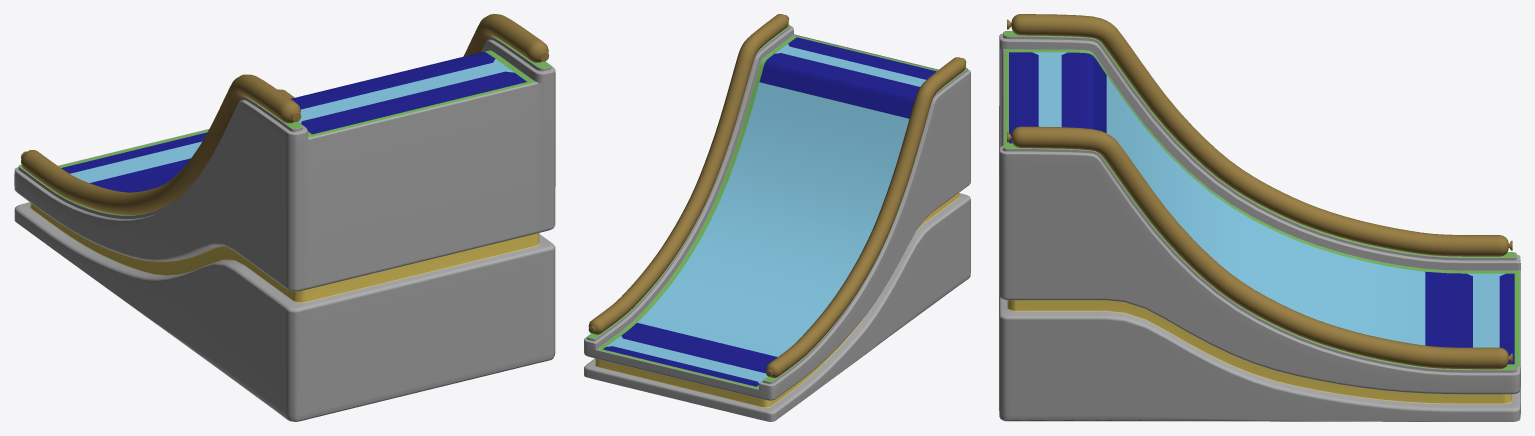
File: SM_Quarterpipe_01 1.fbx
3 views of the same model, side by side, from view 1: azimuth 30°, elevation 25°; view 2: azimuth 150°, elevation 25°; view 3: azimuth 270°, elevation 25° (orthographic). The views are drawn at different scales.
Parts seen in each view (by area): view 1: SM_Quarterpipe_01, SM_Quarterpipe_Sausage_01; view 2: SM_Quarterpipe_01, SM_Quarterpipe_Sausage_01; view 3: SM_Quarterpipe_01, SM_Quarterpipe_Sausage_01.
Part boxes in pixels (bbox=[...]): SM_Quarterpipe_01: bbox=[14, 36, 555, 421]; SM_Quarterpipe_Sausage_01: bbox=[21, 14, 549, 214]; SM_Quarterpipe_01: bbox=[584, 24, 970, 421]; SM_Quarterpipe_Sausage_01: bbox=[588, 14, 966, 377]; SM_Quarterpipe_01: bbox=[999, 31, 1520, 421]; SM_Quarterpipe_Sausage_01: bbox=[1007, 14, 1512, 369].
Bounding box in the file's own units: 1336 × 1486 × 2422.
